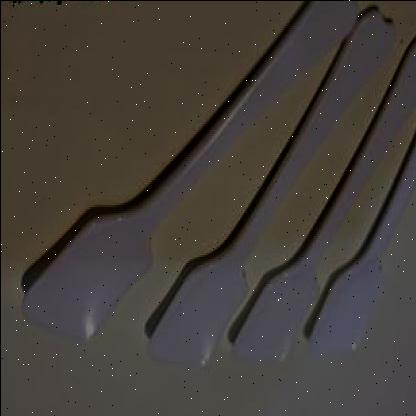Others: (21, 0, 416, 367)
